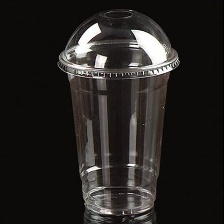glass: (54, 5, 185, 222)
